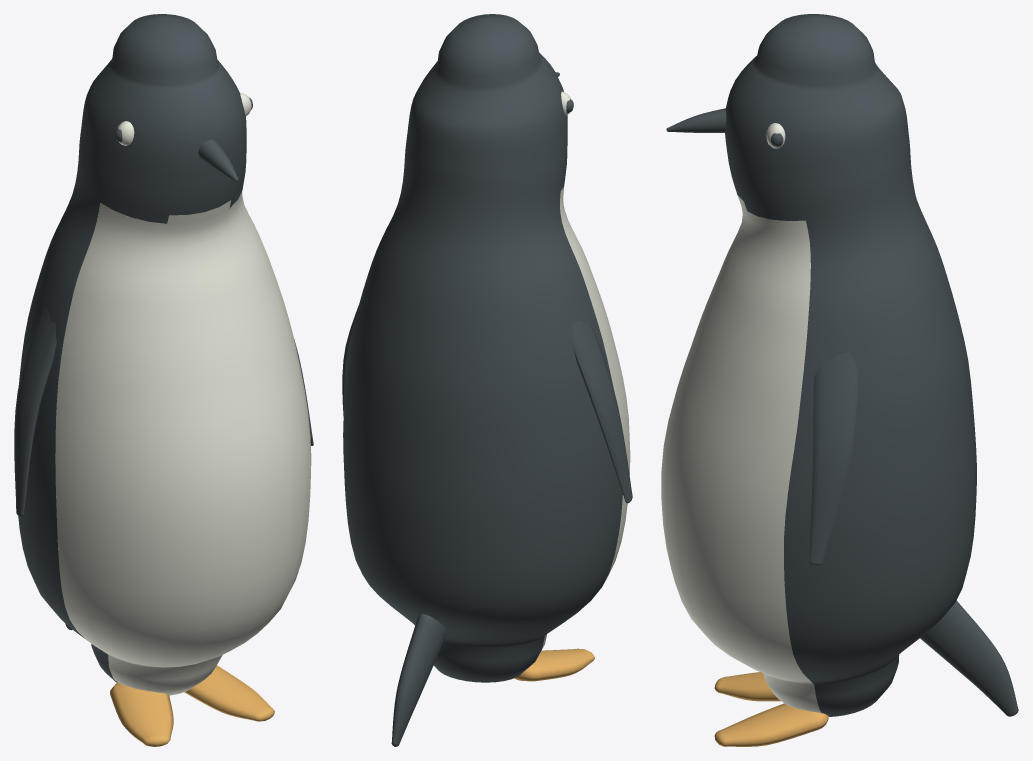
Rendered from penguin.glb.
3 renders of one model, left to right at view 1: azimuth 30°, elevation 25°; view 2: azimuth 150°, elevation 25°; view 3: azimuth 270°, elevation 25°, orthographic. The views are drawn at different scales.
Visible parts, largest first — view 1: adelie-penguin; view 2: adelie-penguin; view 3: adelie-penguin.
Boxes of the visible parts, <box> form: adelie-penguin: <box>14,14,313,746</box>; adelie-penguin: <box>342,14,632,746</box>; adelie-penguin: <box>661,14,1018,746</box>.
Bounding box in the file's own units: 0.3147 × 0.7 × 0.3232.
